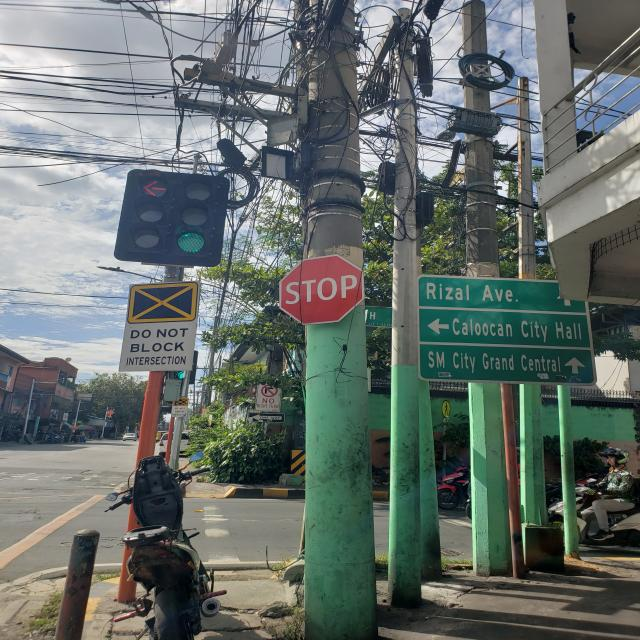stop-sign: (279, 254, 365, 325)
